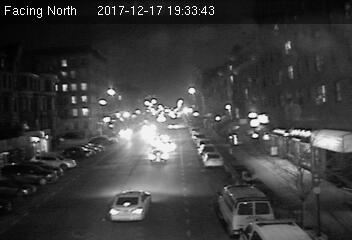car: (108, 189, 154, 223), (148, 147, 170, 166), (202, 151, 222, 165)
police: (214, 183, 275, 233)
